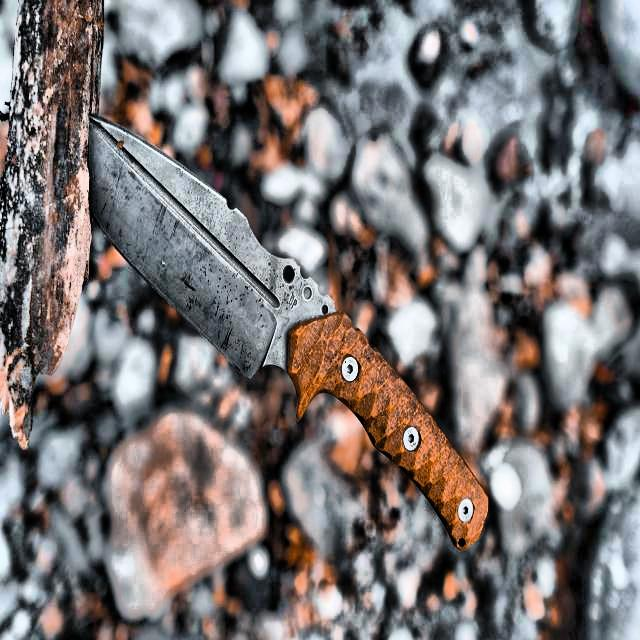knife: (89, 110, 495, 550)
